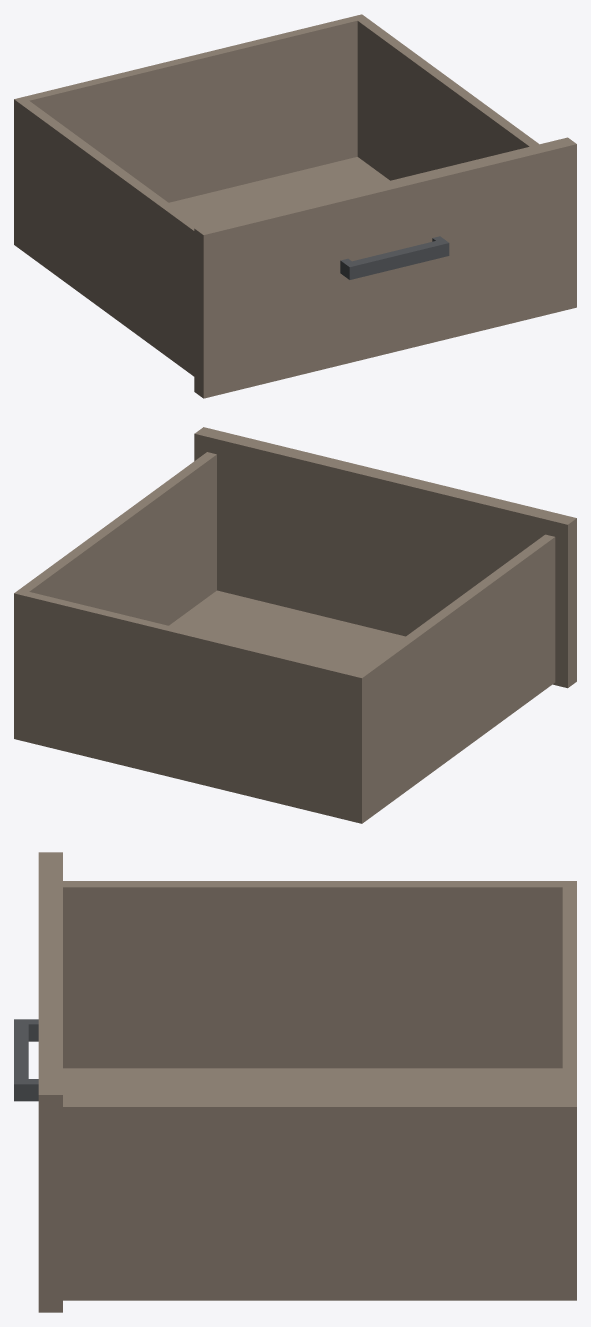
The model's file is Door2_C5_05.fbx.
3 views of the same model, one above another, from view 1: azimuth 30°, elevation 25°; view 2: azimuth 150°, elevation 25°; view 3: azimuth 270°, elevation 25° (orthographic). The views are drawn at different scales.
Parts seen in each view (by area): view 1: Door2_C5_05; view 2: Door2_C5_05; view 3: Door2_C5_05.
Boxes of the visible parts, box(x1,y1,x2,y2) form: Door2_C5_05: box(14, 14, 576, 398); Door2_C5_05: box(14, 427, 576, 823); Door2_C5_05: box(14, 852, 576, 1312).
Bounding box in the file's own units: 59 × 24.68 × 57.89.
